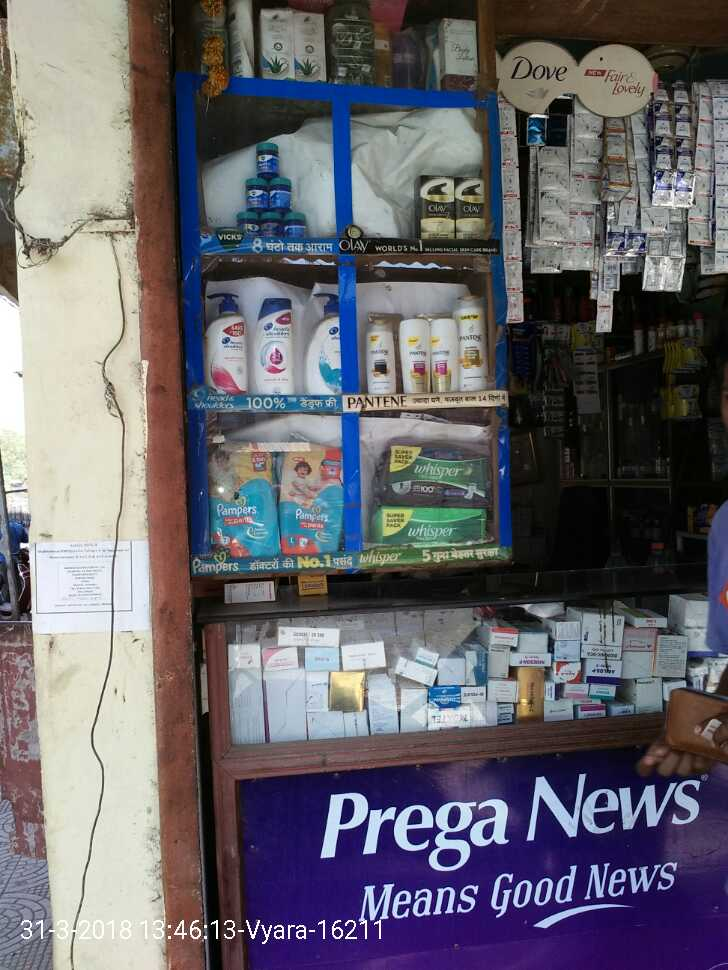vicks: (259, 142, 278, 175), (269, 178, 291, 206), (236, 213, 263, 235), (245, 178, 266, 205), (263, 211, 280, 239), (284, 212, 306, 232)
